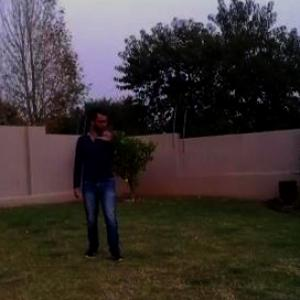follow_hand: (97, 122, 116, 144)
